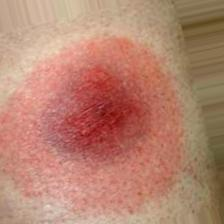Tick: (0, 36, 182, 209)
